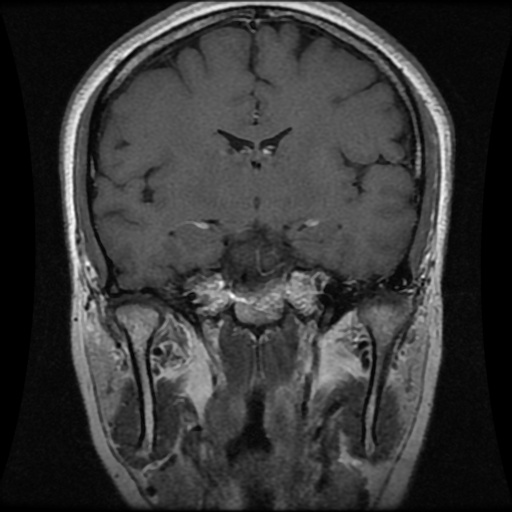pituitary: (181, 266, 327, 326)
